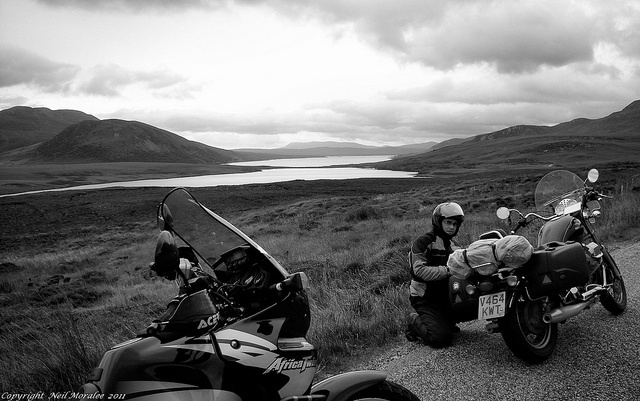non-vehicle: (85, 182, 421, 396), (470, 167, 633, 365)
